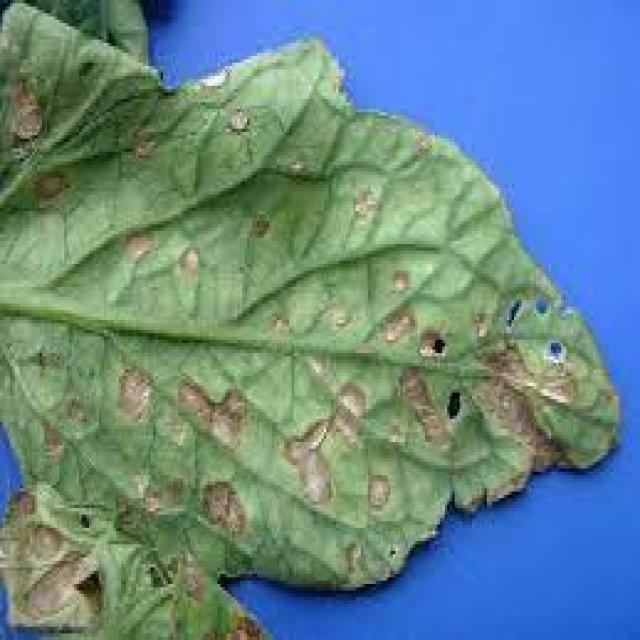Septoria_Blight_on_lettuce: (62, 151, 409, 534)
